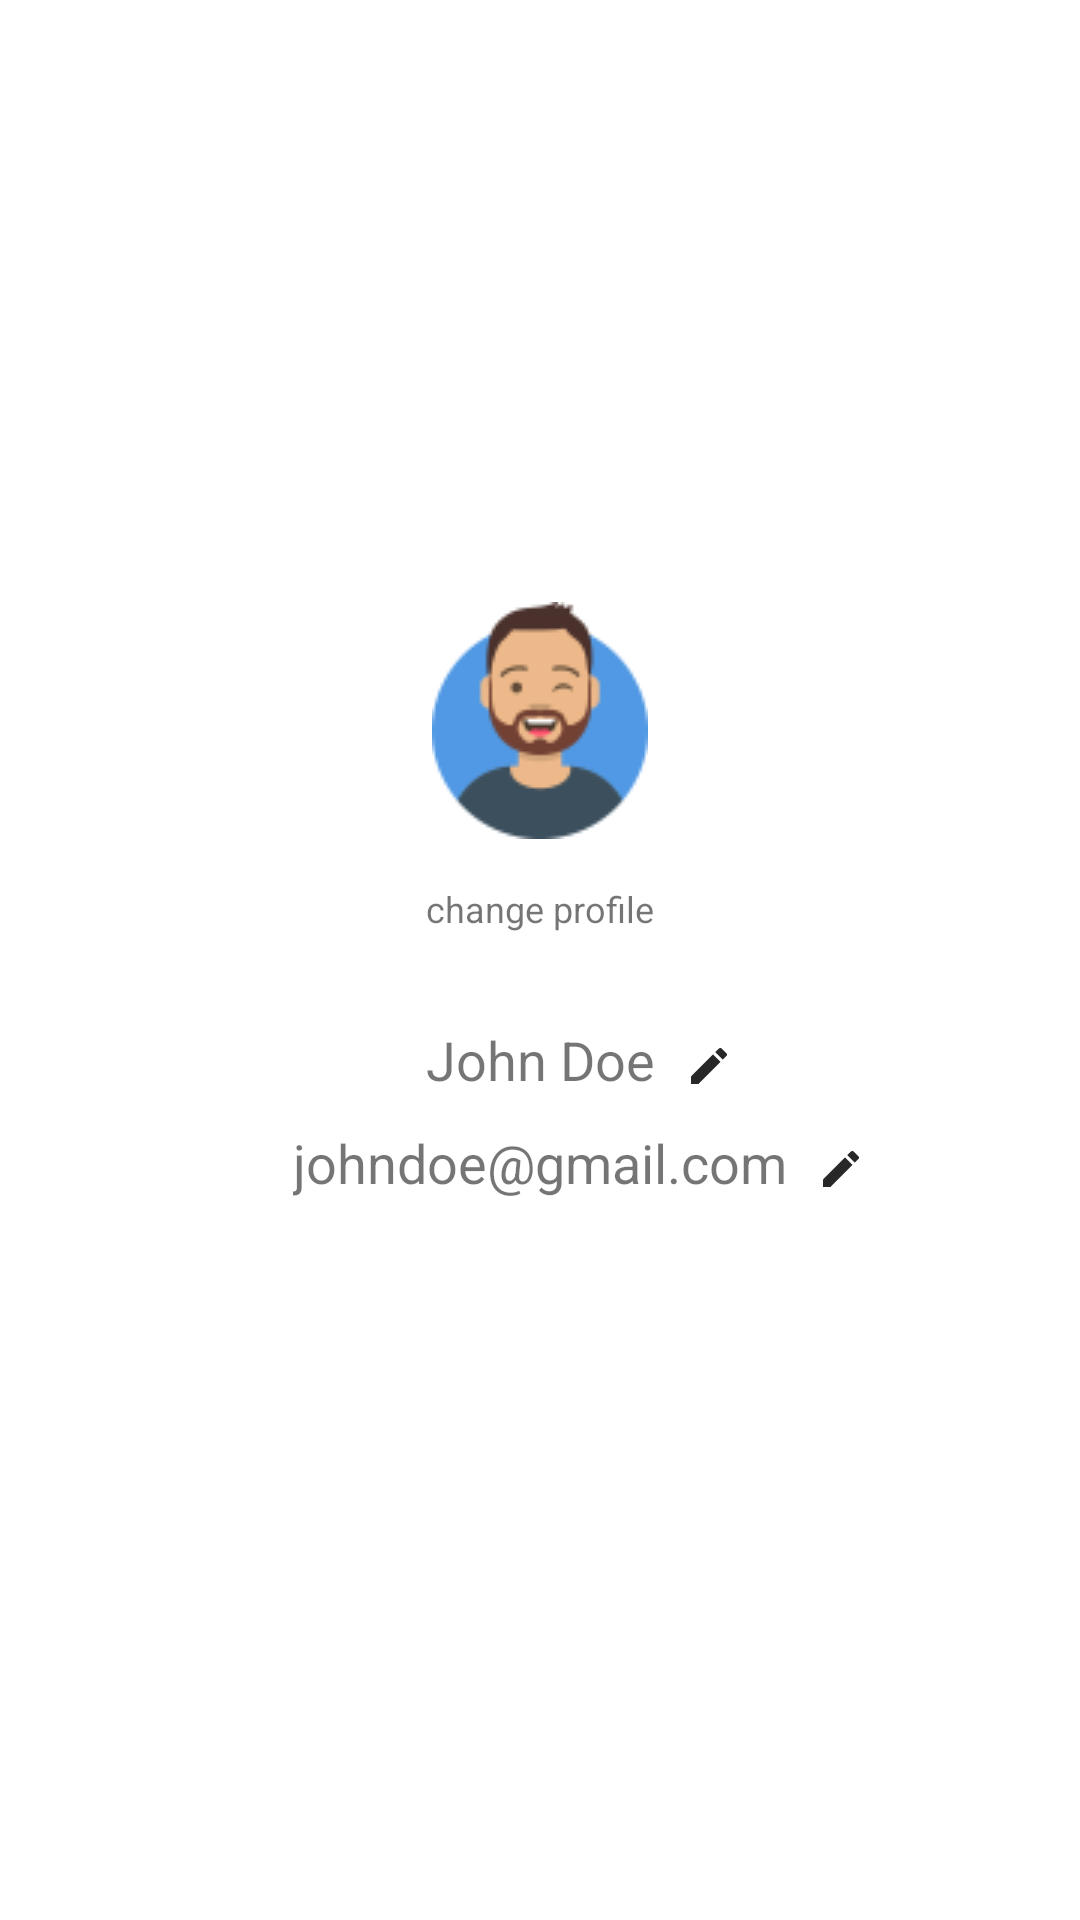

Screen size 1080x1920. Icon name, then its center in pixels as point (x, y):
edit: point (709, 1066), point (841, 1169)
